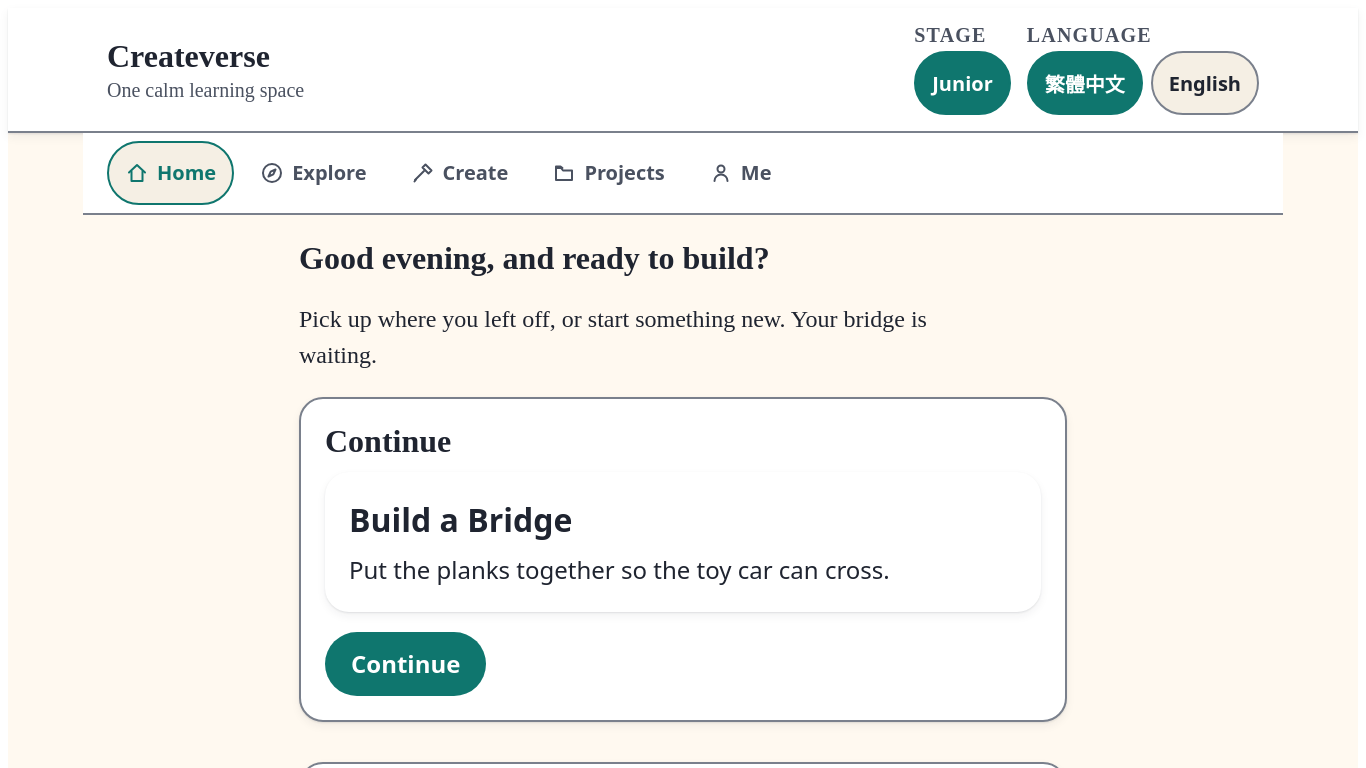
Test: locale switch renders both catalogs (P1-02 acceptance) › switching back to en restores the en catalog
The width and height of the screenshot is (1366, 768).
Click the button "繁體中文" at (1085,83), box [1027,51,1143,115]
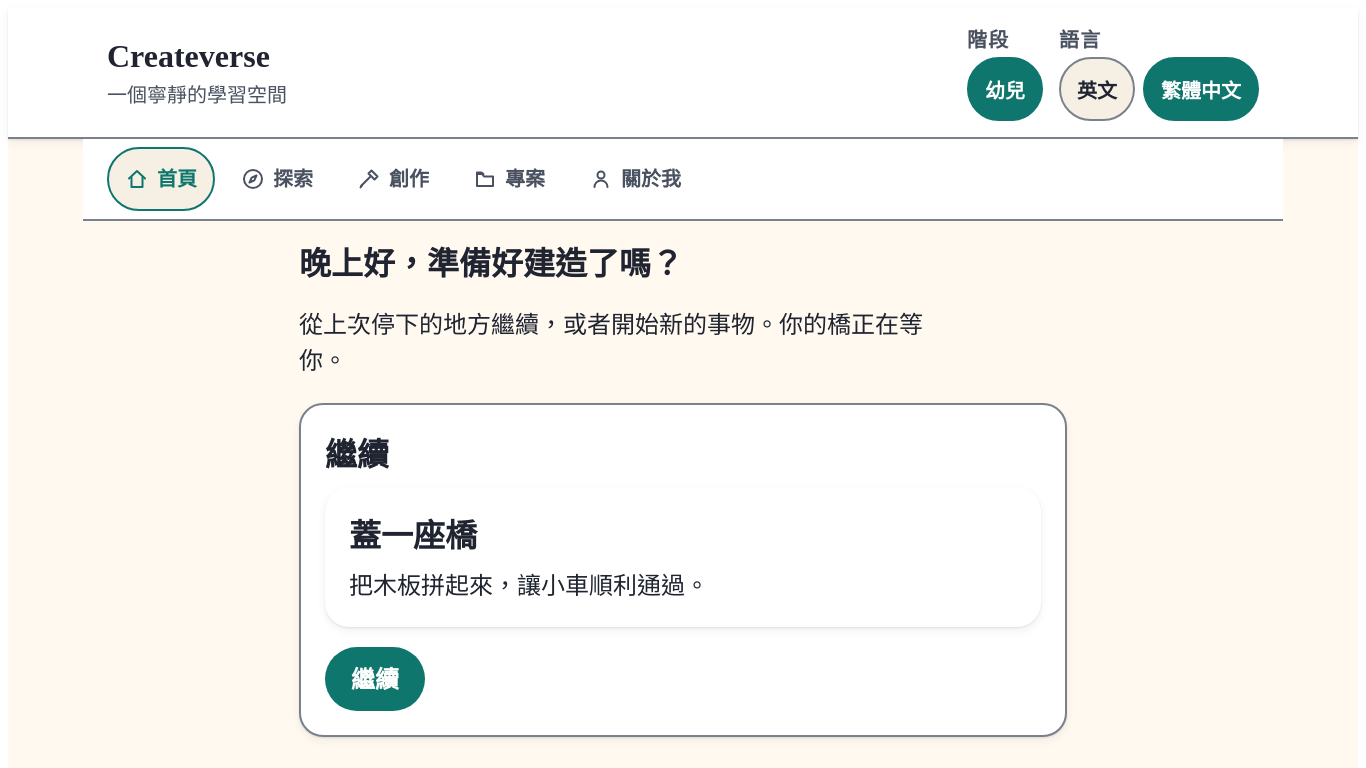
Click the button "繁體中文" at (1201,89), box [1143,57,1259,121]
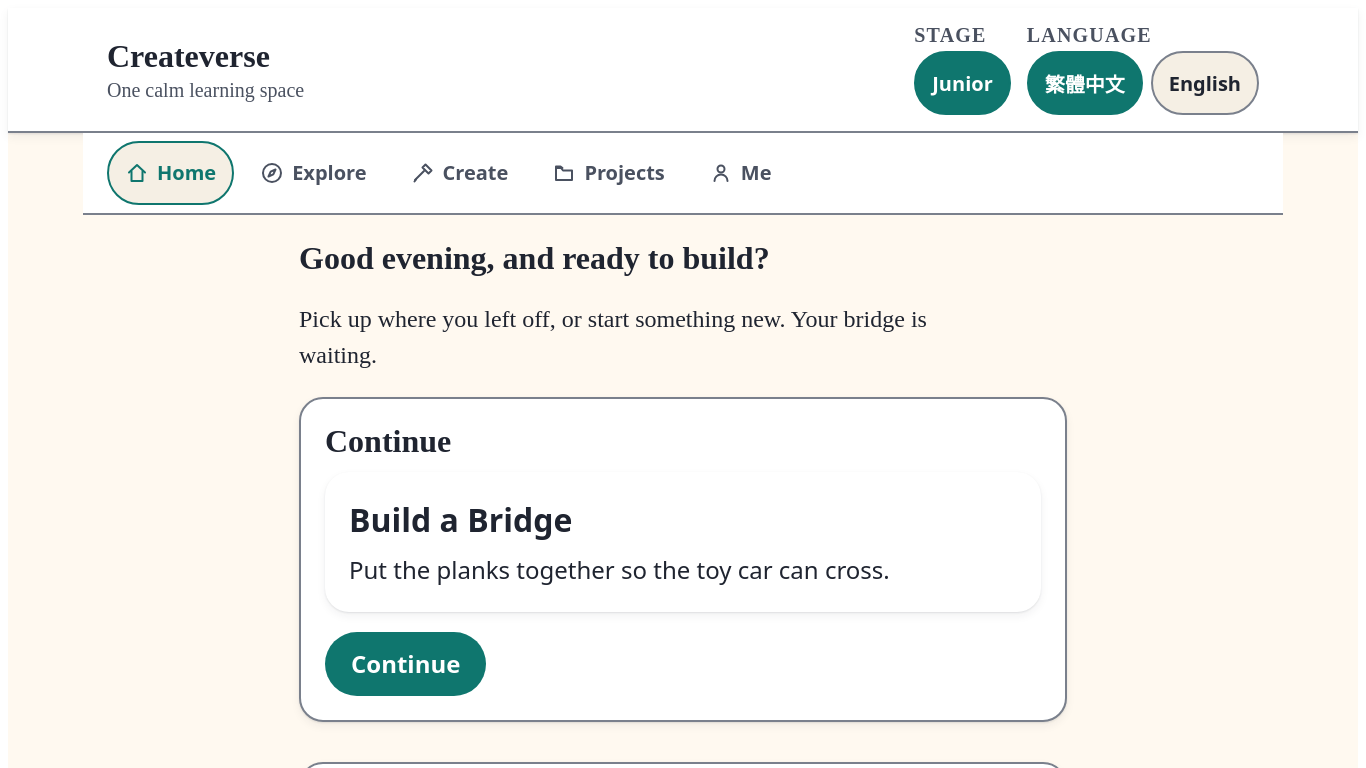
Expected: the text "One calm learning space" is shown, [107,79,304,102]
Expected: the text "一個寧靜的學習空間" is gone
